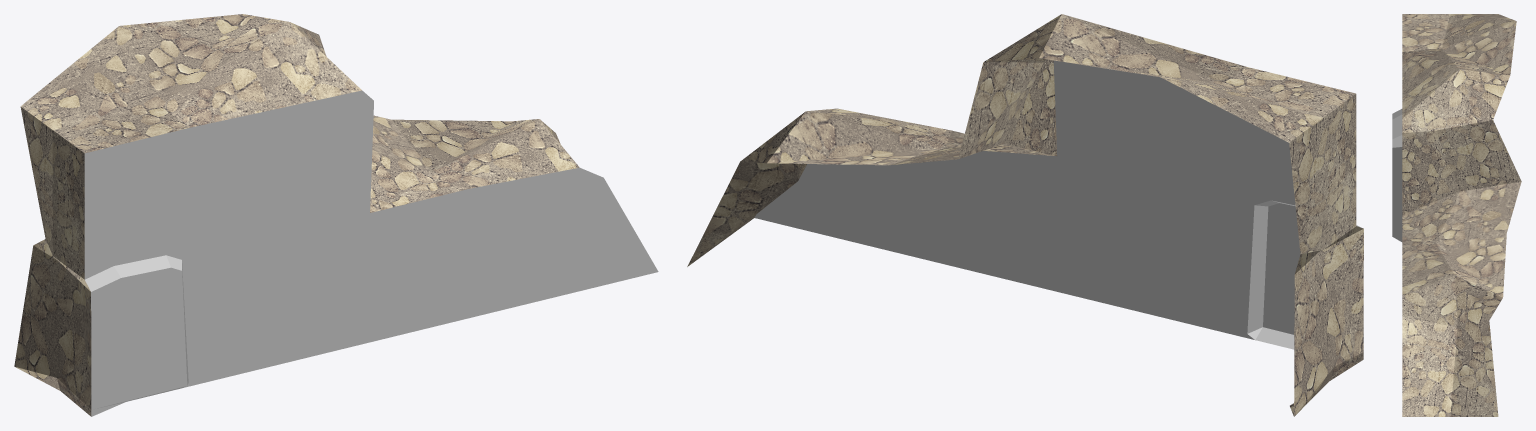
Rendered from SM_Blockout_Ruins_Wall_04.fbx.
3 views of the same model, side by side, from view 1: azimuth 30°, elevation 25°; view 2: azimuth 150°, elevation 25°; view 3: azimuth 270°, elevation 25° (orthographic). The views are drawn at different scales.
Visible parts, largest first — view 1: Wall_Ruins_4; view 2: Wall_Ruins_4; view 3: Wall_Ruins_4.
Boxes of the visible parts, x1,y1,x2,y2 form: Wall_Ruins_4: (14,14,658,416); Wall_Ruins_4: (687,14,1363,416); Wall_Ruins_4: (1392,14,1521,416).
Size of the model in its own units: 156 by 78.35 by 40.4.
